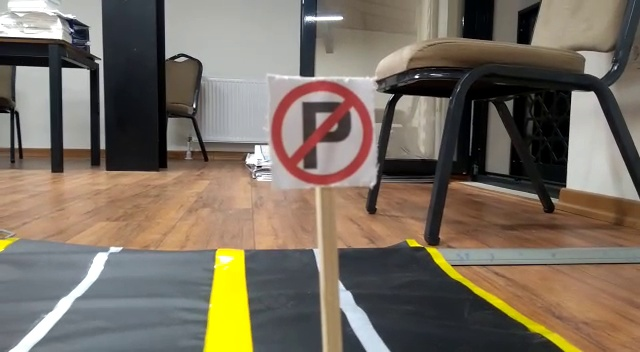park_yapilmaz: (267, 73, 374, 183)
